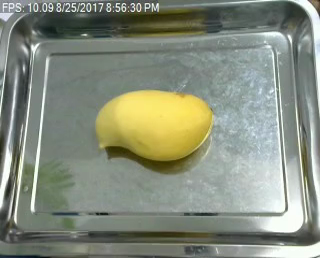Mango: (92, 87, 216, 165)
